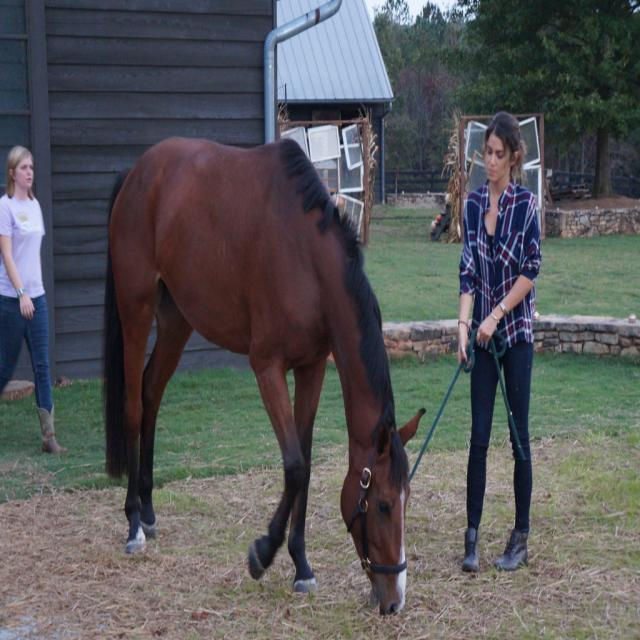Horse: (100, 133, 427, 618)
